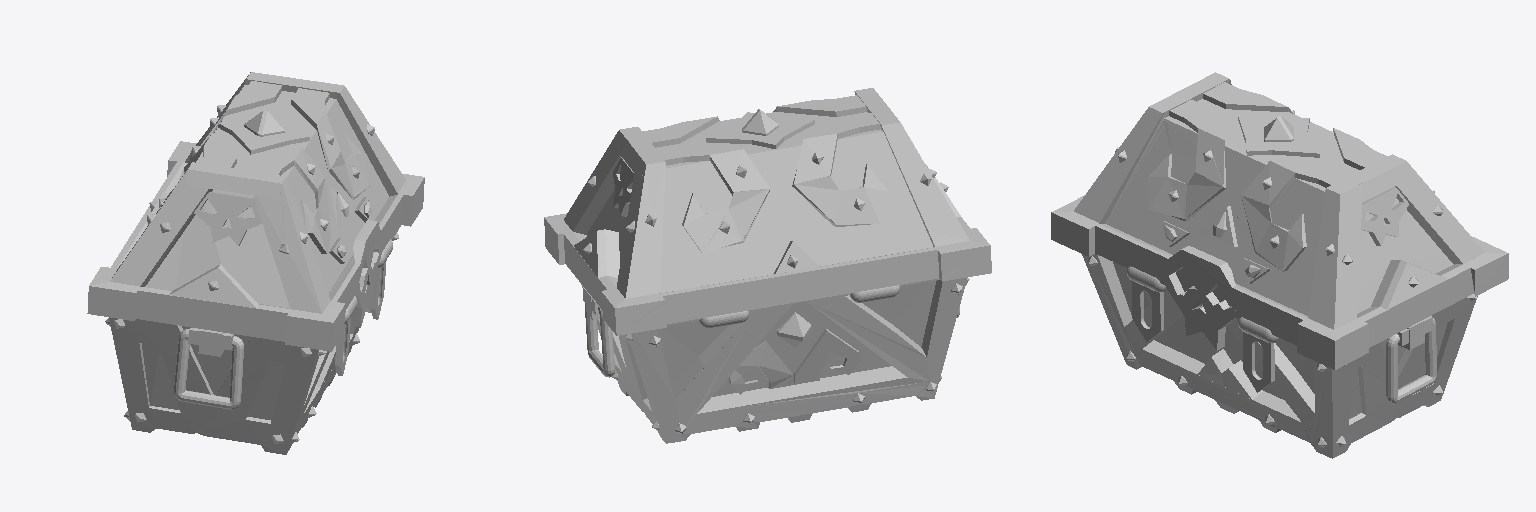
File: chest.obj
3 renders of one model, left to right at view 1: azimuth 30°, elevation 25°; view 2: azimuth 150°, elevation 25°; view 3: azimuth 270°, elevation 25°, orthographic.
Visible parts, largest first — view 1: Chest; view 2: Chest; view 3: Chest.
Boxes of the visible parts, x1,y1,x2,y2 form: Chest: [87, 72, 424, 454]; Chest: [544, 88, 991, 443]; Chest: [1051, 72, 1508, 458].
Bounding box in the file's own units: 0.8757 × 0.6128 × 0.884.